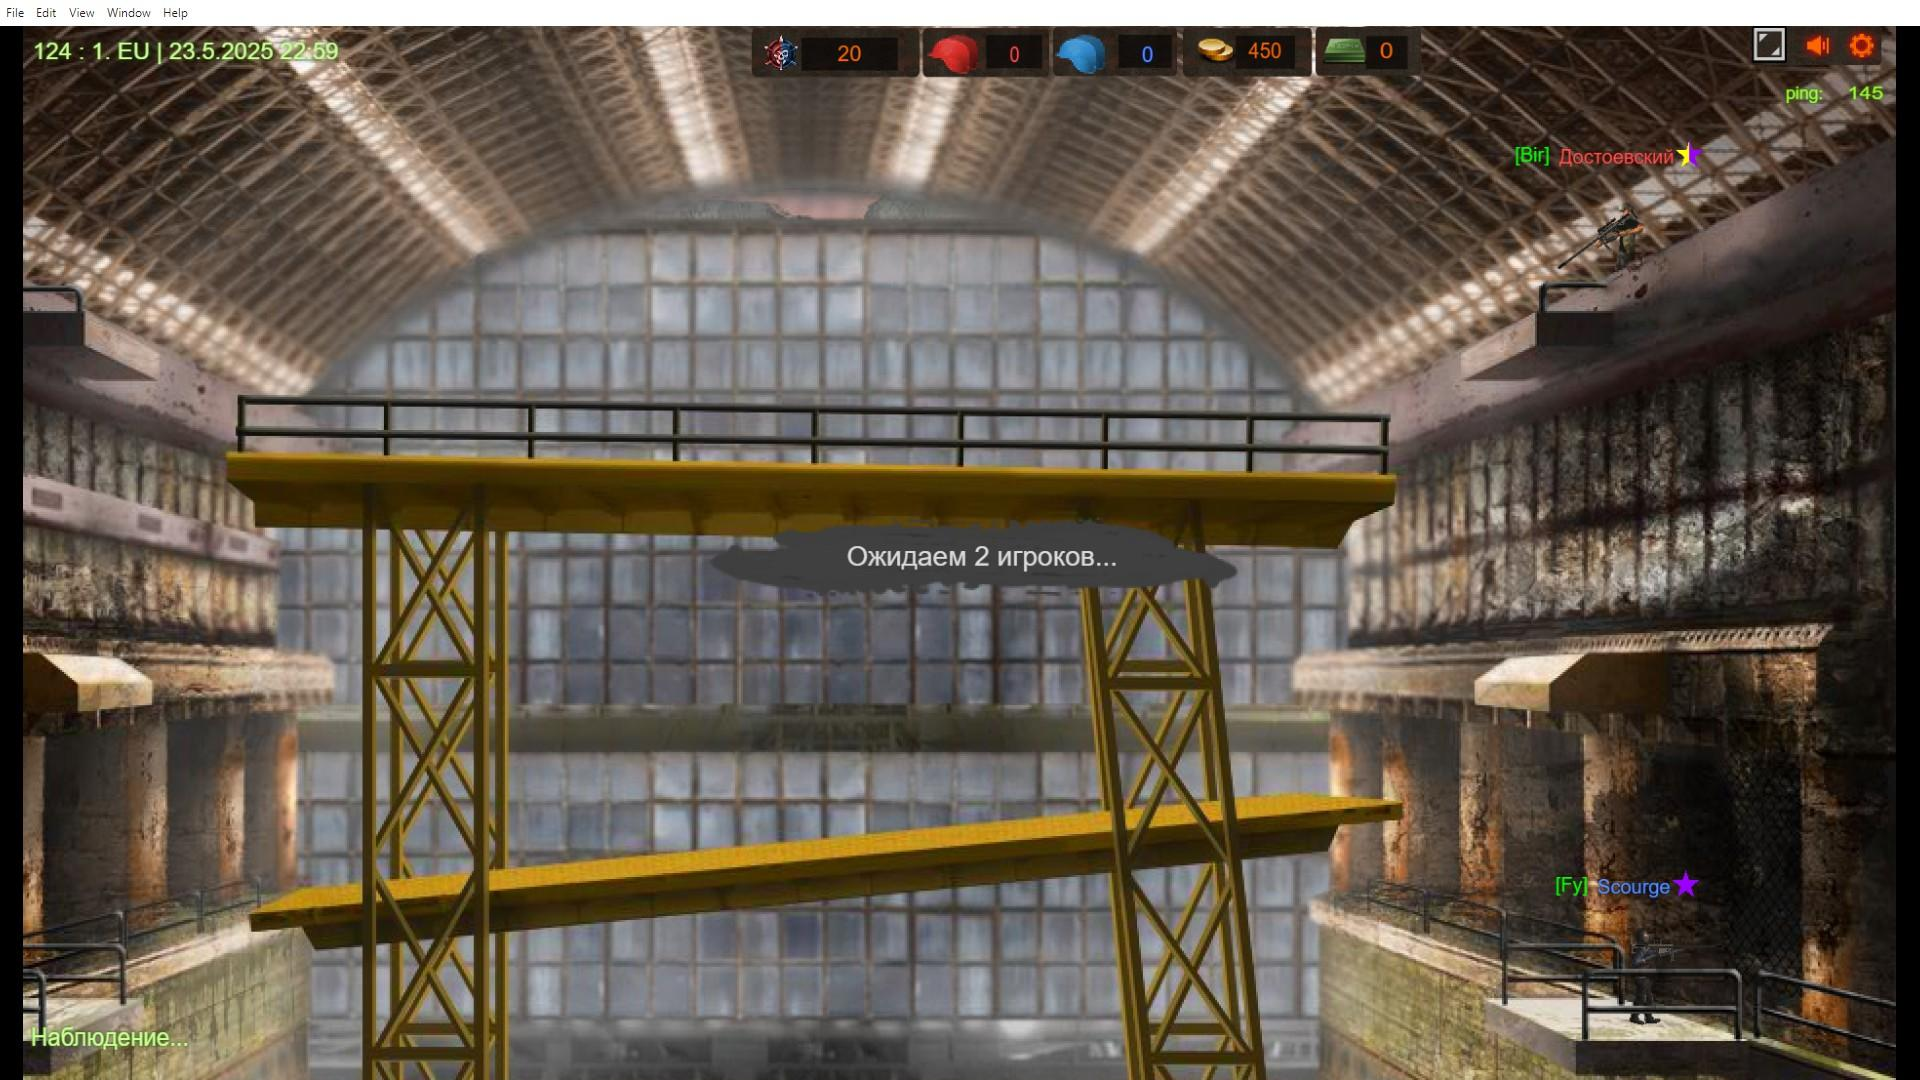enemy: (1619, 919, 1695, 1030), (1596, 196, 1654, 301)
